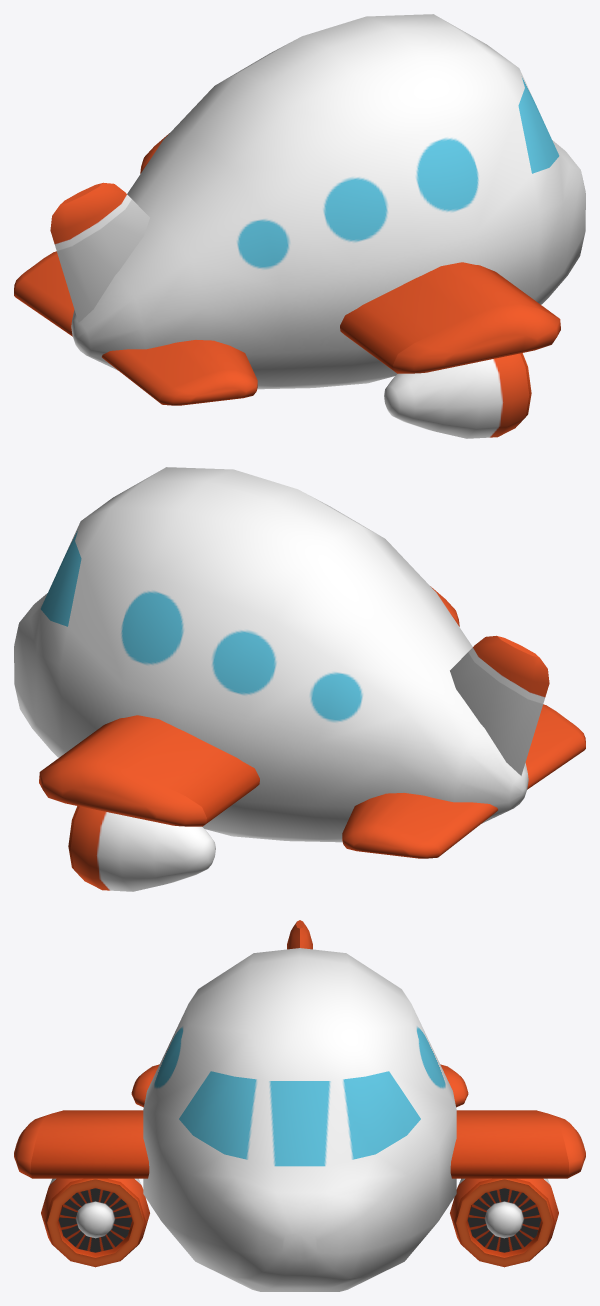
The model's file is ENV2010002.fbx.
3 views of the same model, one above another, from view 1: azimuth 30°, elevation 25°; view 2: azimuth 150°, elevation 25°; view 3: azimuth 270°, elevation 25° (orthographic). The views are drawn at different scales.
Visible parts, largest first — view 1: smENV2010002; view 2: smENV2010002; view 3: smENV2010002.
Boxes of the visible parts, bbox=[...] form: smENV2010002: bbox=[14, 14, 585, 438]; smENV2010002: bbox=[14, 467, 585, 891]; smENV2010002: bbox=[14, 920, 585, 1291].
Size of the model in its own units: 27.01 by 15.96 by 28.17.
Materials: 1 (1 with a texture image).
